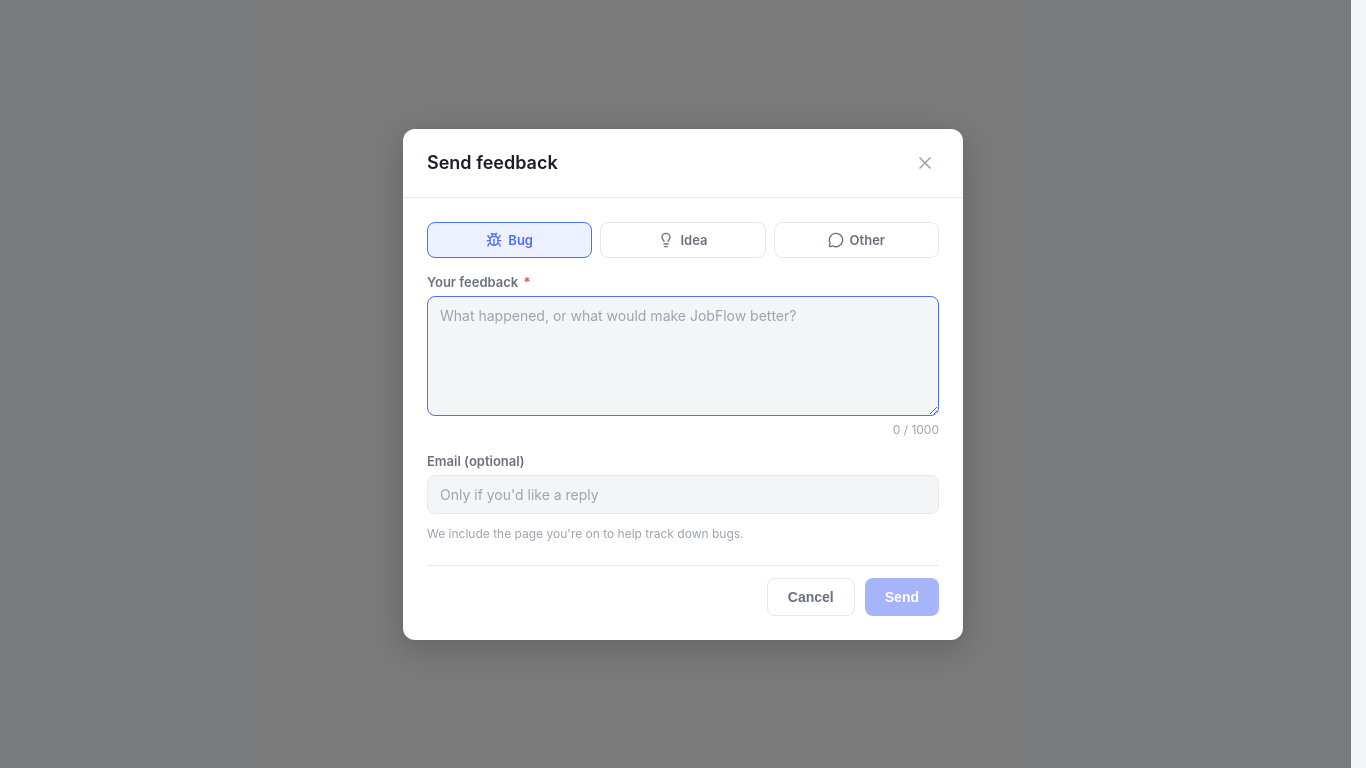
Scenario: FeedbackForm › sends the trimmed message, chosen type, email and current page, then closes
Step 1. Click the radio button labelled "Idea" → (683, 240), box [600, 222, 766, 258]
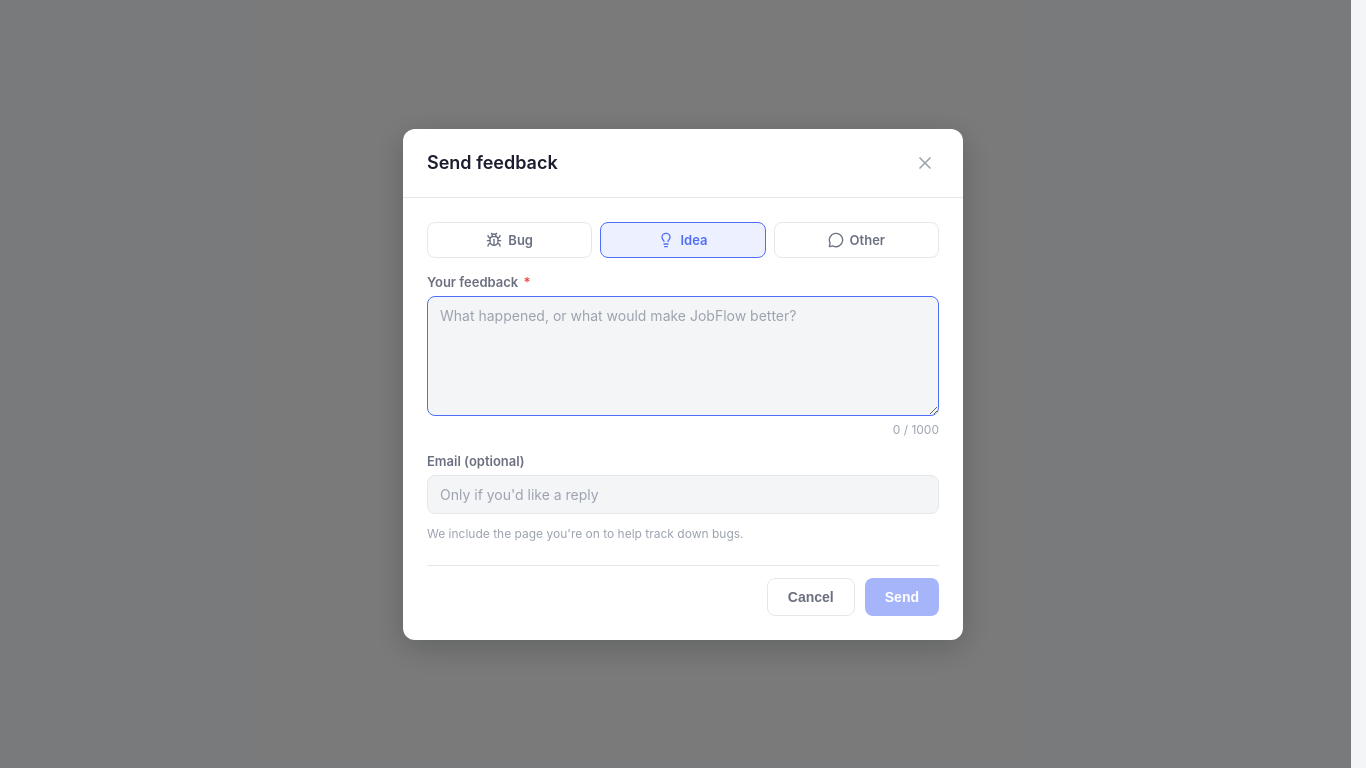
Step 2. Type "  Add a calendar view  " into the text box labelled "Your feedback *" → (683, 356), box [427, 296, 939, 416]
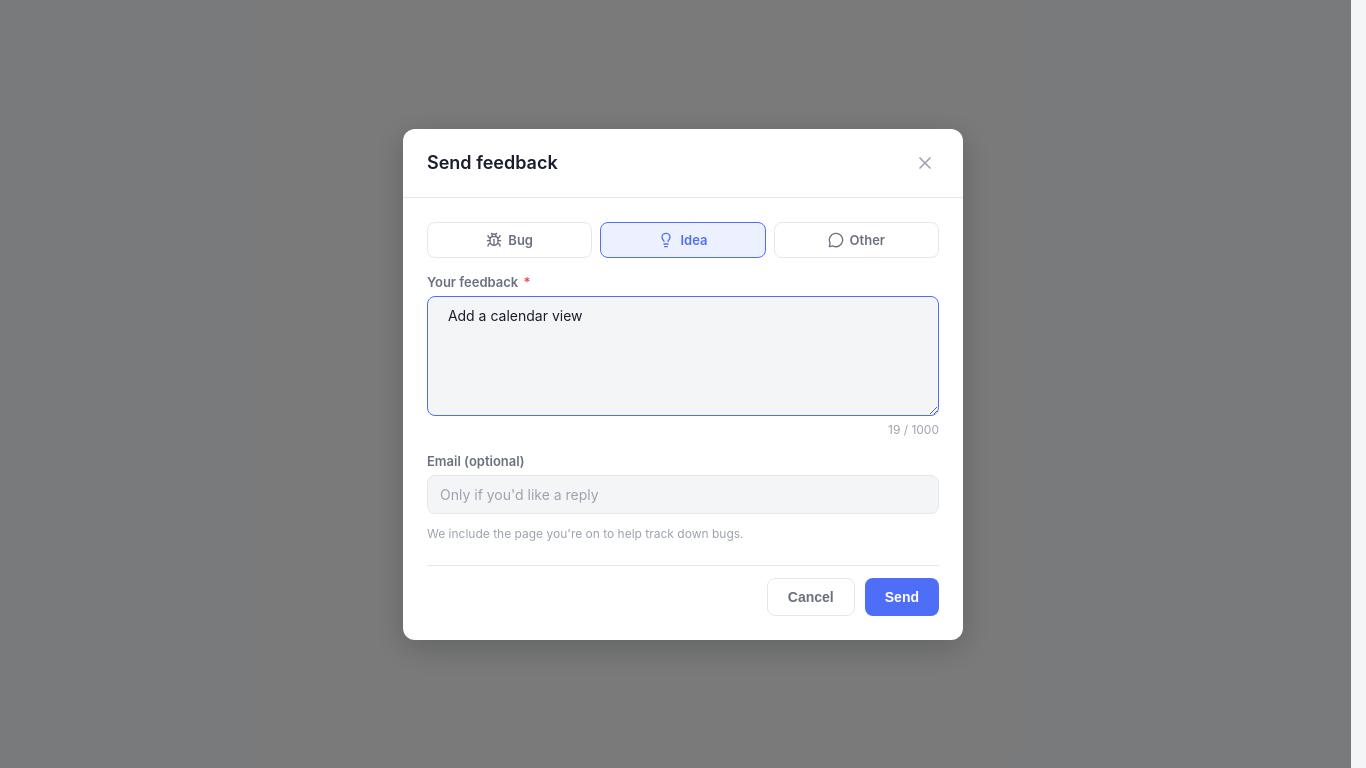
Step 3. Type " me@example.com " into the field labelled "Email (optional)" → (683, 494), box [427, 474, 939, 514]
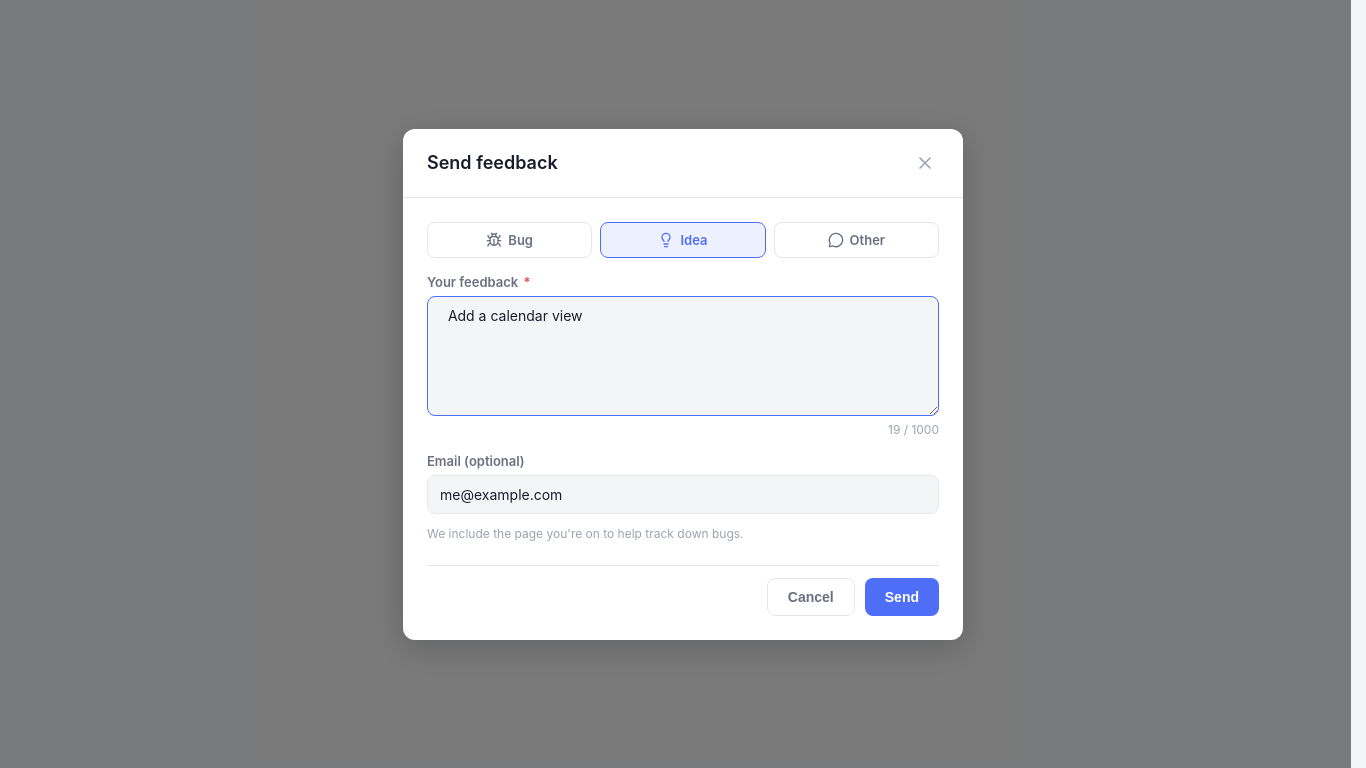
Step 4. Click the button "Send" → (902, 596), box [865, 578, 939, 616]
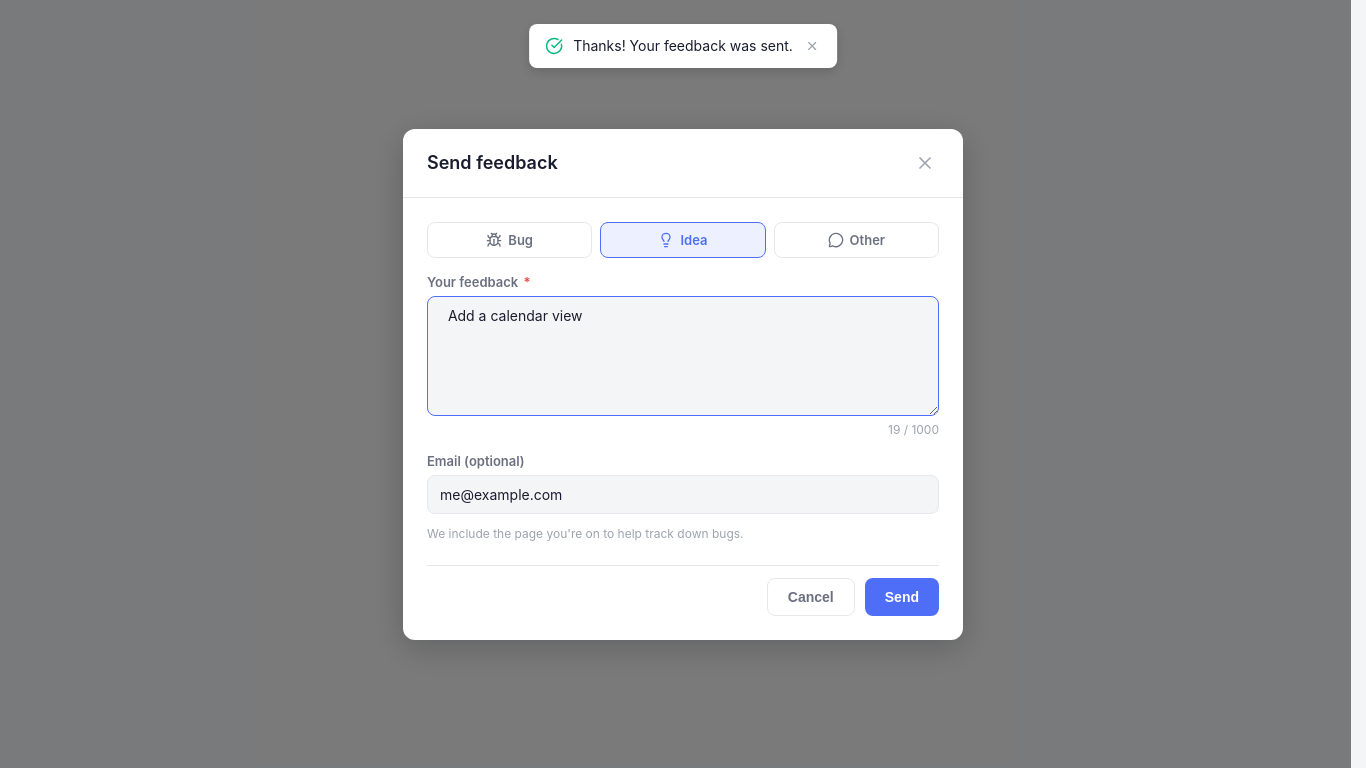
Expected: the text "Thanks! Your feedback was sent." is shown, [573, 36, 793, 56]
